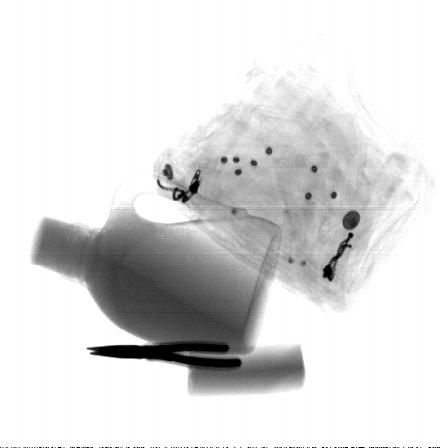Pliers: (83, 341, 245, 371)
